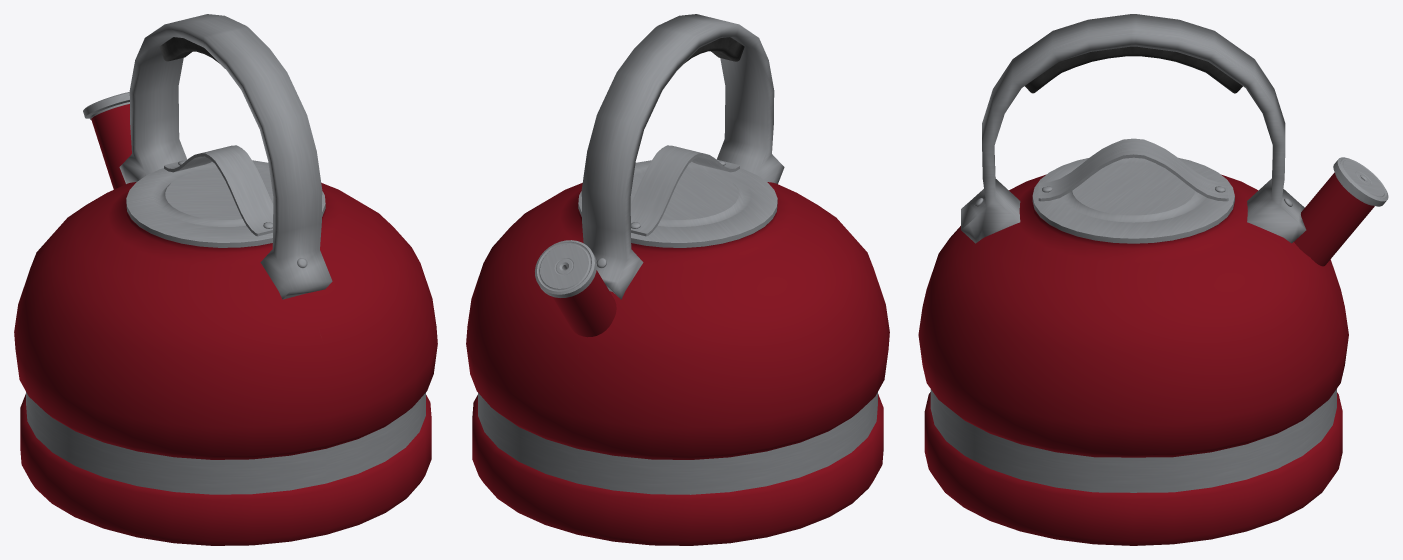
File: Kettle.glb
3 views of the same model, side by side, from view 1: azimuth 30°, elevation 25°; view 2: azimuth 150°, elevation 25°; view 3: azimuth 270°, elevation 25° (orthographic).
Visible parts, largest first — view 1: Kettle; view 2: Kettle; view 3: Kettle.
Boxes of the visible parts, x1=… form: Kettle: x1=14, y1=14, x2=437, y2=545; Kettle: x1=466, y1=14, x2=889, y2=545; Kettle: x1=918, y1=14, x2=1388, y2=545.
Size of the model in its own units: 2 by 2.28 by 2.18.
1 material, 1 textured.
